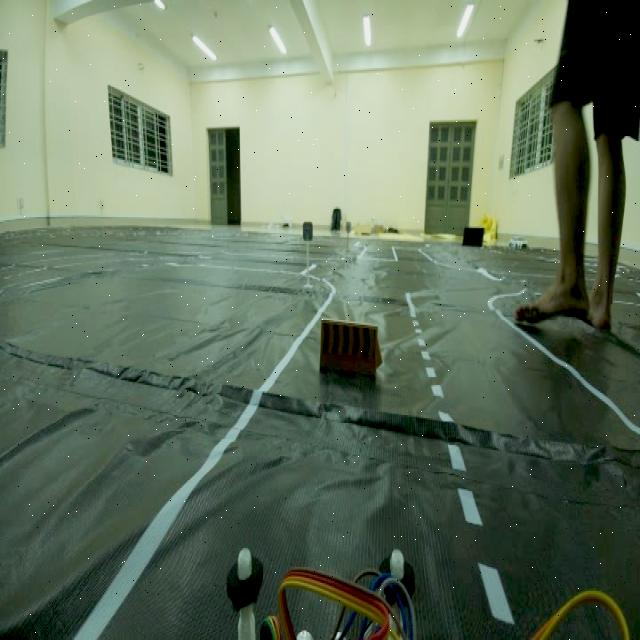roadblock: (313, 311, 389, 400)
